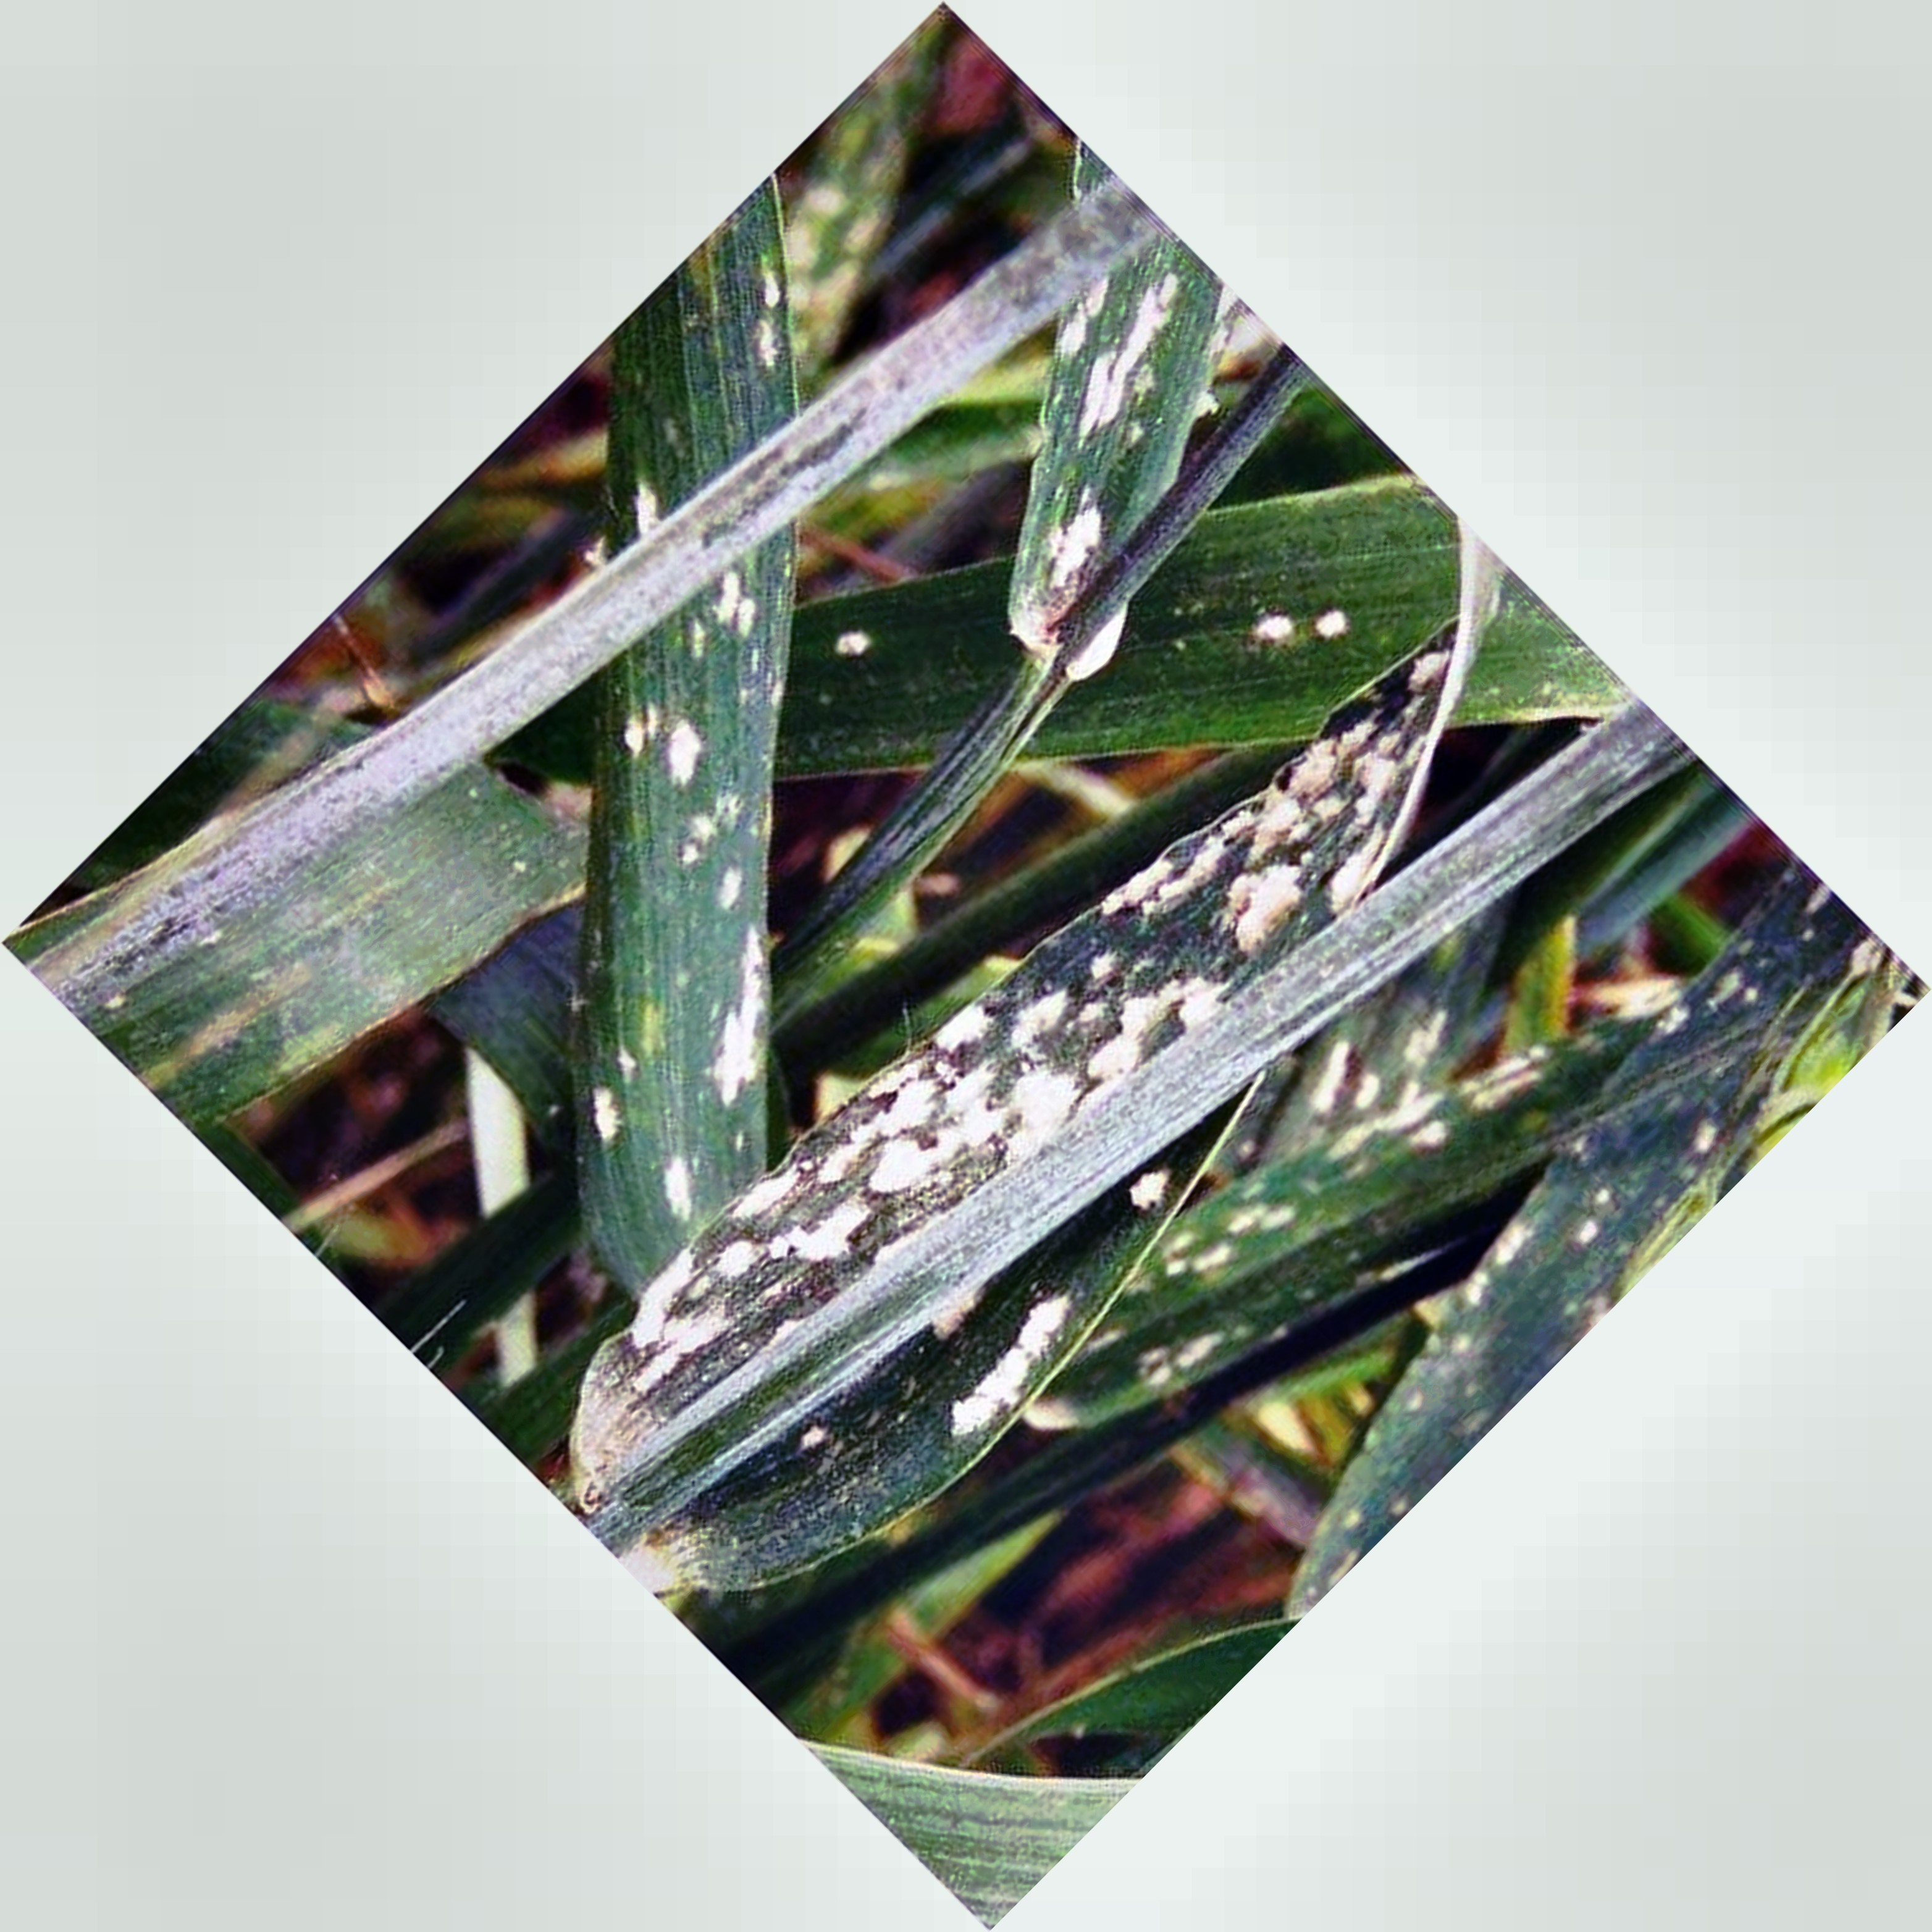Powdery Mildew: (653, 708, 1394, 1373)
